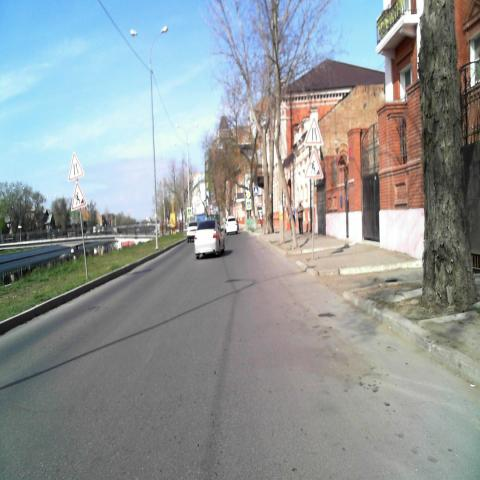1_20_2: (303, 119, 325, 149), (68, 152, 84, 180)
1_25: (70, 182, 86, 211)
